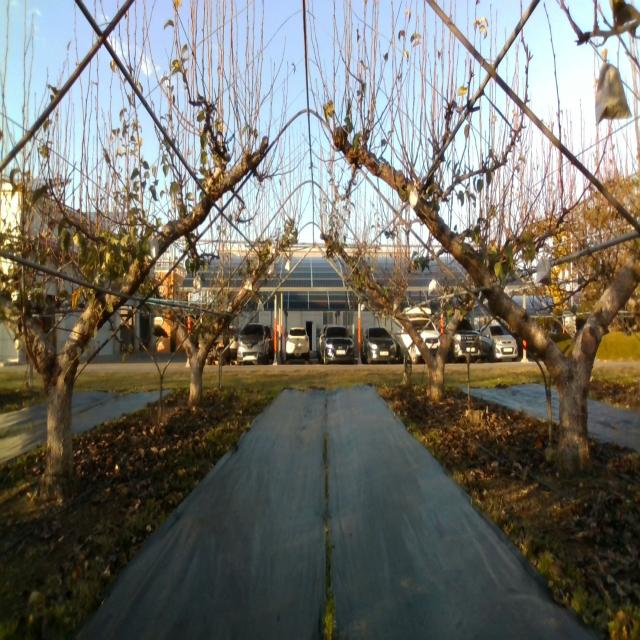pearbags: (594, 64, 632, 127), (536, 257, 551, 286)
